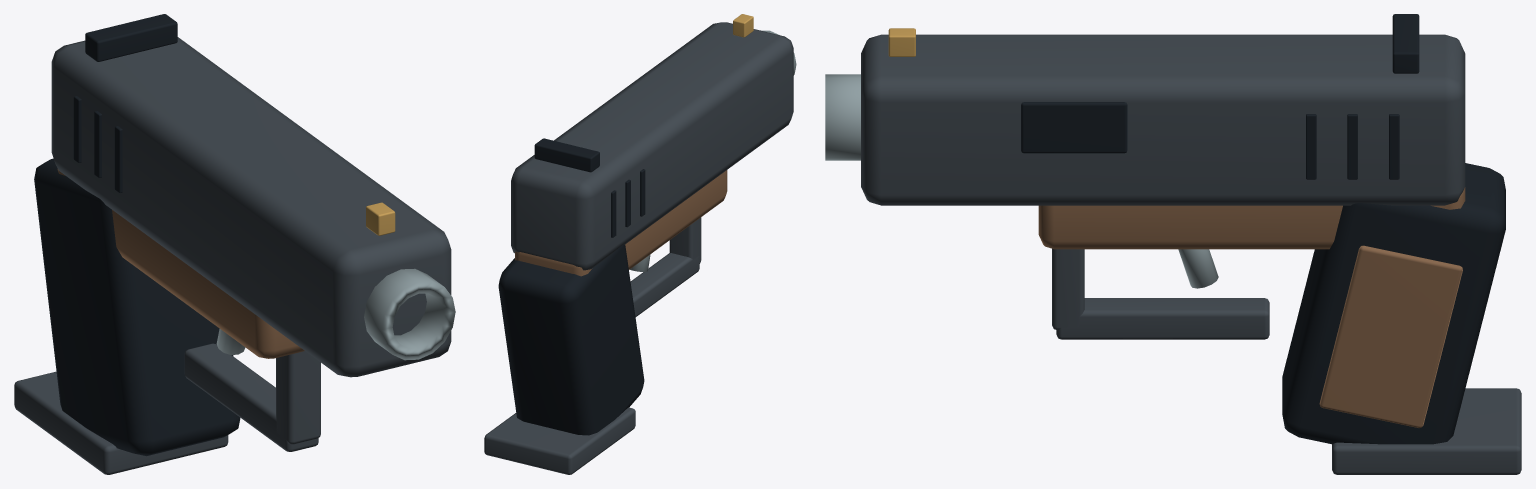
The picture shows the model from 3 angles, left to right: view 1: azimuth 30°, elevation 25°; view 2: azimuth 150°, elevation 25°; view 3: azimuth 270°, elevation 25°; orthographic projection. The views are drawn at different scales.
Parts seen in each view (by area): view 1: m1911_Cerakote graphite, m1911_Recesses and rubber, m1911_m1911 painted furniture, m1911_Machined edges, m1911_Warm brass details; view 2: m1911_Cerakote graphite, m1911_Recesses and rubber, m1911_m1911 painted furniture, m1911_Warm brass details; view 3: m1911_Cerakote graphite, m1911_Recesses and rubber, m1911_m1911 painted furniture, m1911_Machined edges, m1911_Warm brass details.
Part boxes in pixels (bbox=[...]): m1911_Cerakote graphite: bbox=[14, 37, 451, 474]; m1911_Recesses and rubber: bbox=[34, 14, 240, 456]; m1911_m1911 painted furniture: bbox=[57, 169, 304, 358]; m1911_Machined edges: bbox=[216, 268, 455, 360]; m1911_Warm brass details: bbox=[366, 202, 395, 235]; m1911_Cerakote graphite: bbox=[484, 22, 793, 474]; m1911_Recesses and rubber: bbox=[498, 138, 645, 435]; m1911_m1911 painted furniture: bbox=[515, 170, 727, 276]; m1911_Warm brass details: bbox=[733, 14, 753, 37]; m1911_Cerakote graphite: bbox=[861, 34, 1521, 474]; m1911_Recesses and rubber: bbox=[1021, 14, 1505, 444]; m1911_m1911 painted furniture: bbox=[1038, 187, 1465, 427]; m1911_Machined edges: bbox=[825, 74, 1218, 288]; m1911_Warm brass details: bbox=[888, 28, 915, 56].
Bounding box in the file's own units: 0.0784 × 0.2469 × 0.376.
